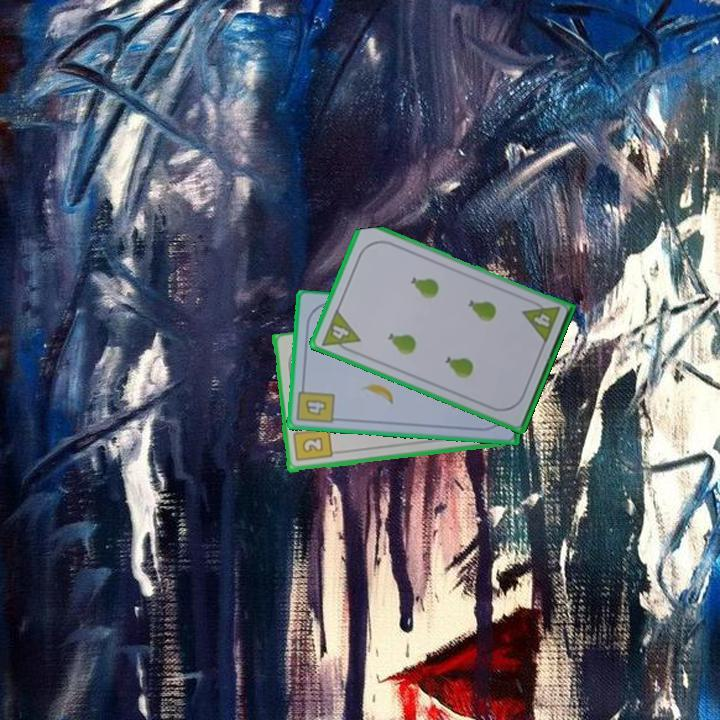2b: (289, 422, 334, 464)
4b: (294, 381, 337, 427)
4p: (318, 306, 363, 357), (519, 296, 563, 346)
